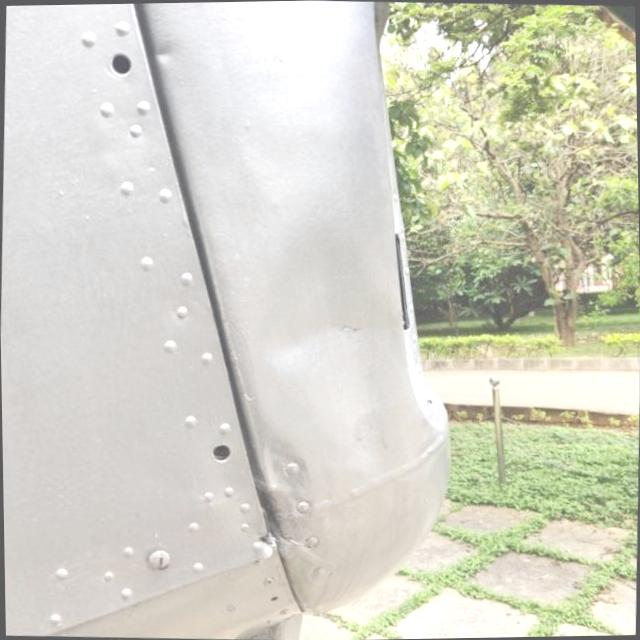Missing Fastener: (108, 51, 128, 72), (210, 444, 228, 461)
dent: (257, 280, 412, 390)
